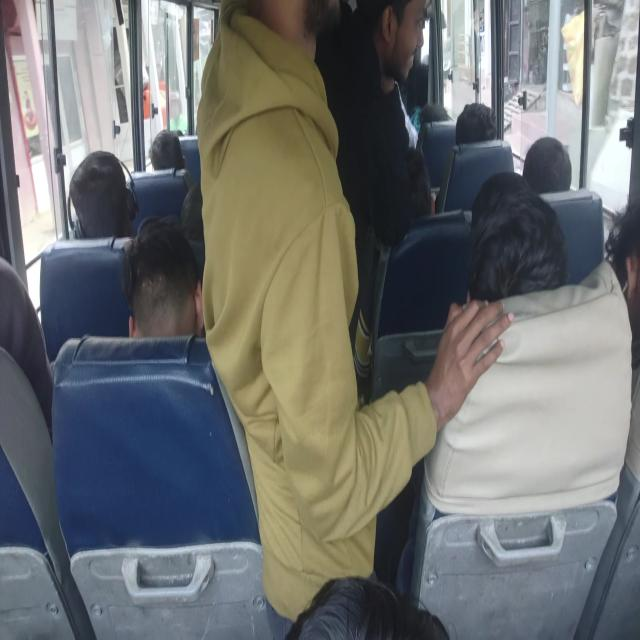person: (260, 542, 544, 640), (224, 9, 308, 136), (477, 199, 552, 336), (134, 227, 207, 365), (0, 286, 47, 453), (69, 147, 140, 249), (346, 0, 429, 87), (602, 198, 640, 318), (387, 157, 430, 256), (155, 118, 202, 185), (521, 137, 566, 204), (460, 98, 504, 156)
